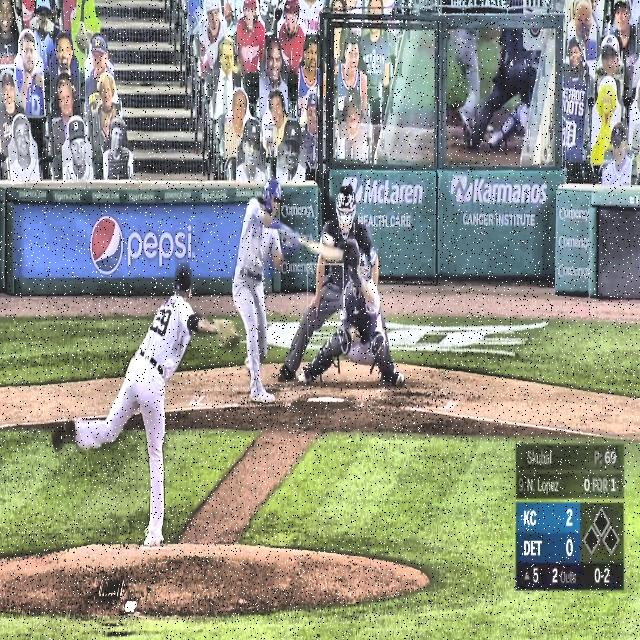baseball: (322, 231, 336, 248)
